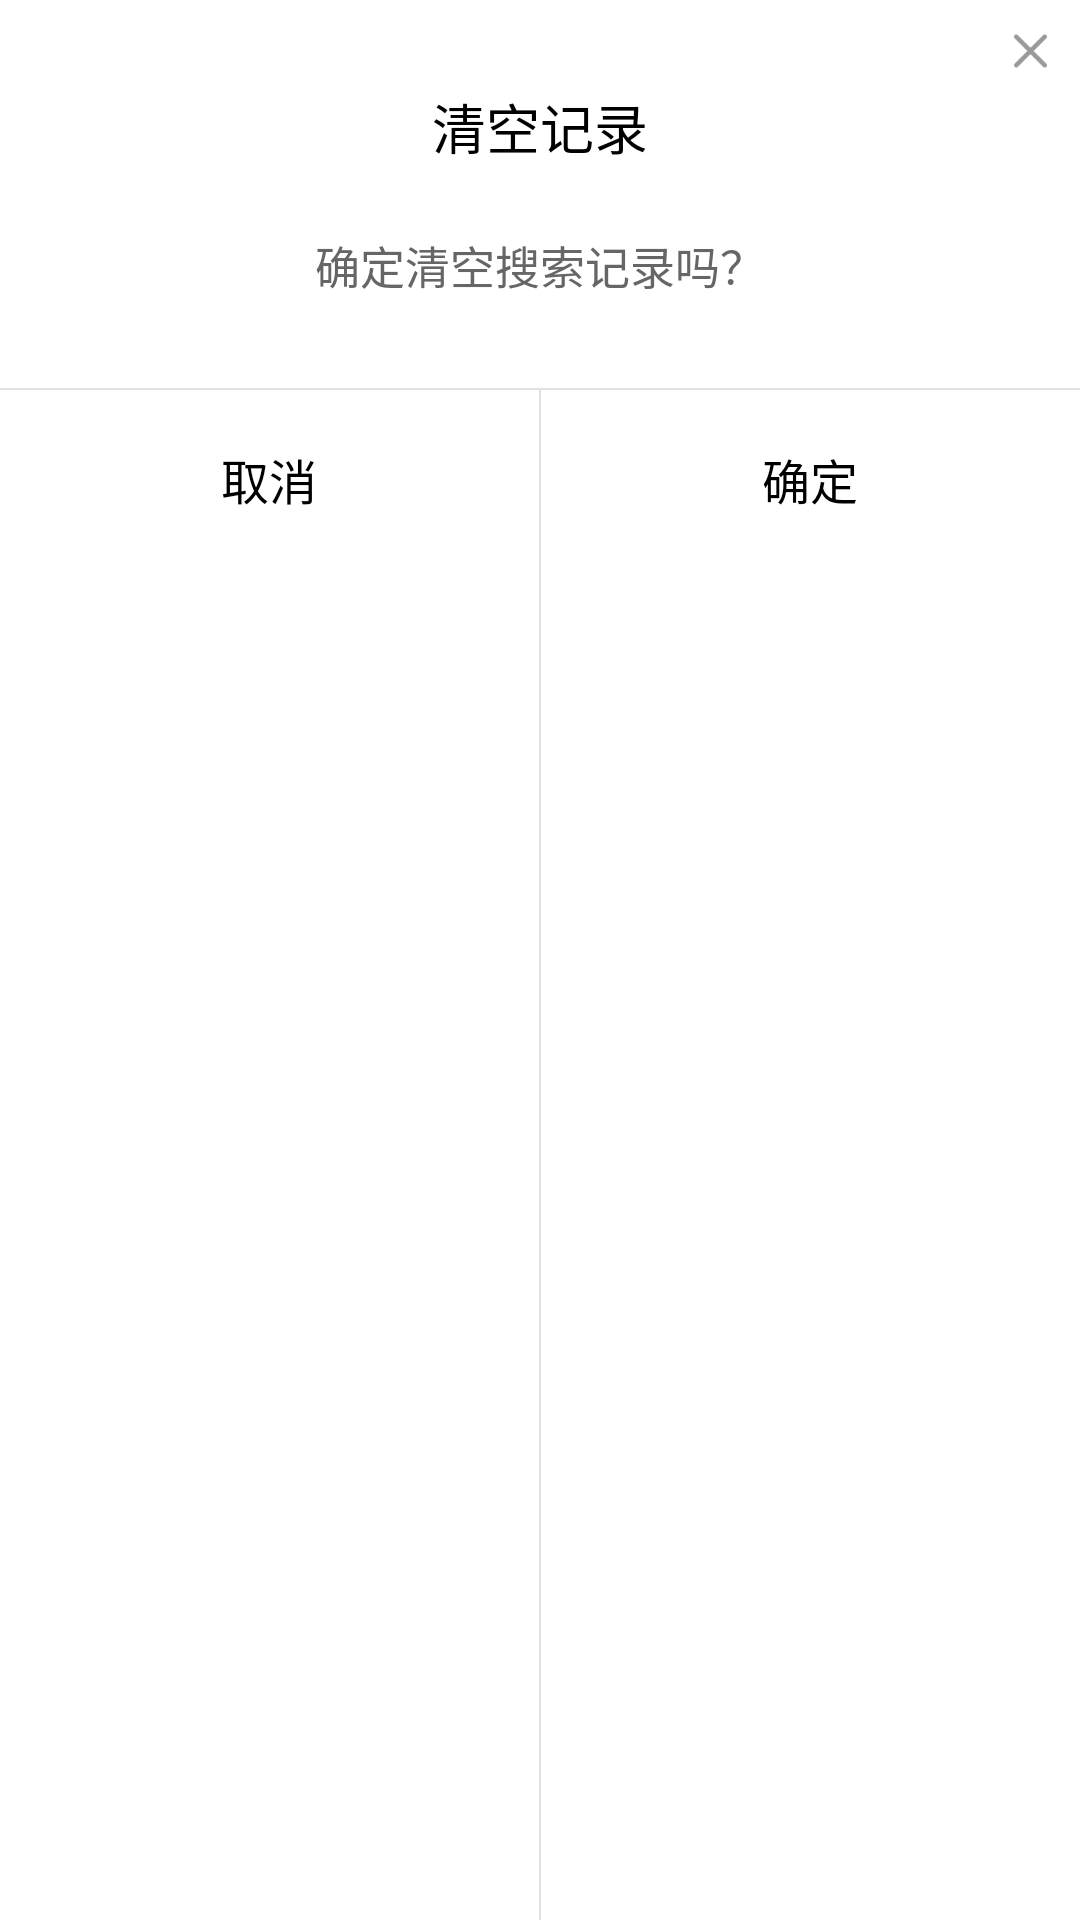

Named icons in this screenshot (1080px x 1920px) and their bounding boxes, [x1,y1,x2,y2]:
close: [1014,34,1047,68]
